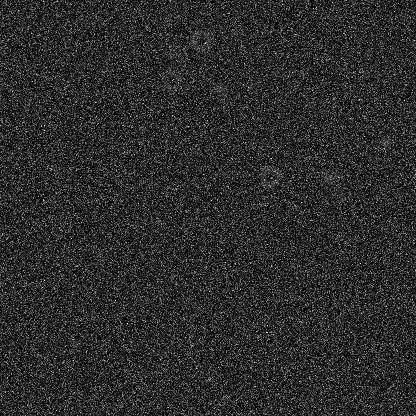Ring: (188, 28, 212, 52), (159, 66, 183, 90), (258, 164, 282, 188), (178, 295, 202, 319)
Spot: (265, 324, 281, 340), (319, 169, 335, 185), (378, 134, 394, 150), (52, 333, 68, 349), (165, 45, 181, 61), (244, 79, 260, 95), (212, 81, 228, 97), (59, 247, 75, 263), (290, 196, 306, 212), (92, 251, 108, 267)
